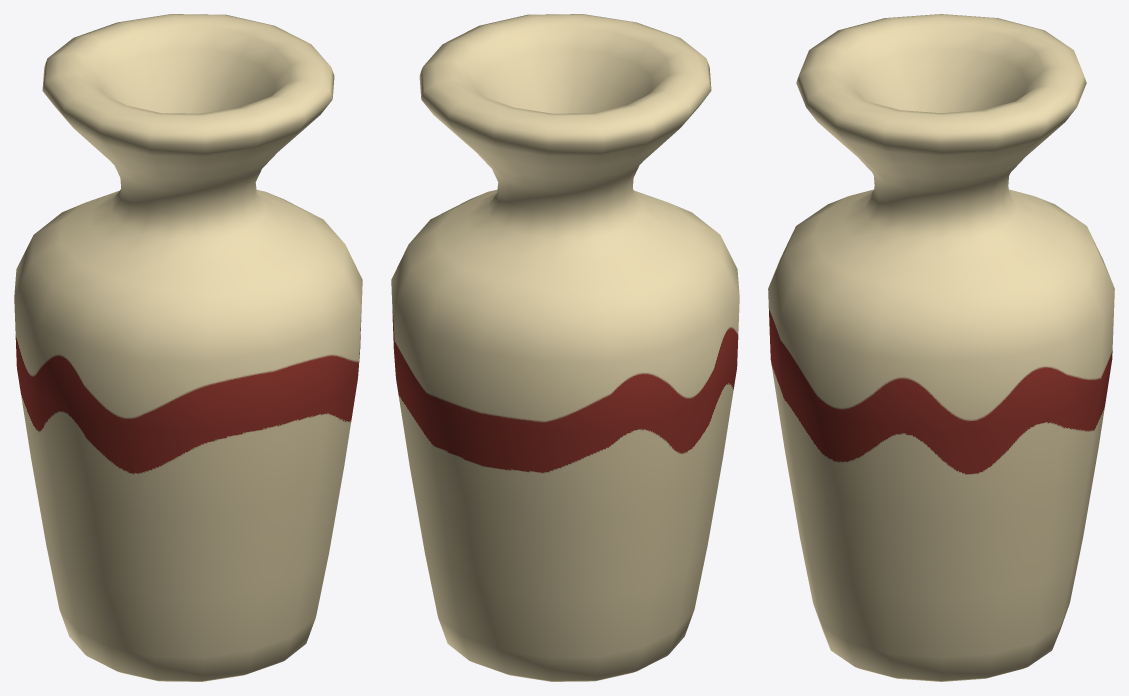
Rendered from WhiteVaseL.fbx.
3 views of the same model, side by side, from view 1: azimuth 30°, elevation 25°; view 2: azimuth 150°, elevation 25°; view 3: azimuth 270°, elevation 25° (orthographic).
Visible parts, largest first — view 1: Cube.003; view 2: Cube.003; view 3: Cube.003.
Boxes of the visible parts, bbox=[...] form: Cube.003: bbox=[14, 14, 362, 681]; Cube.003: bbox=[391, 14, 739, 681]; Cube.003: bbox=[768, 14, 1114, 681].
Bounding box in the file's own units: 169 × 306 × 169.
